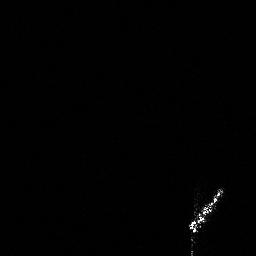ship: (184, 182, 228, 238)
